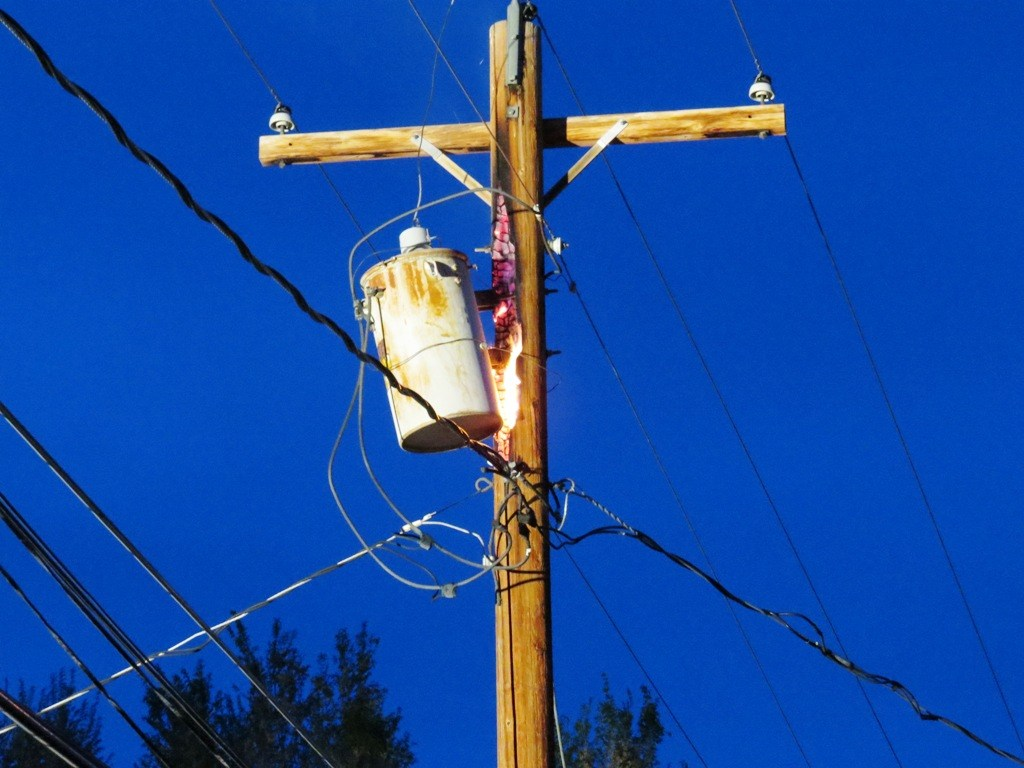utility_pole: (245, 10, 799, 499)
